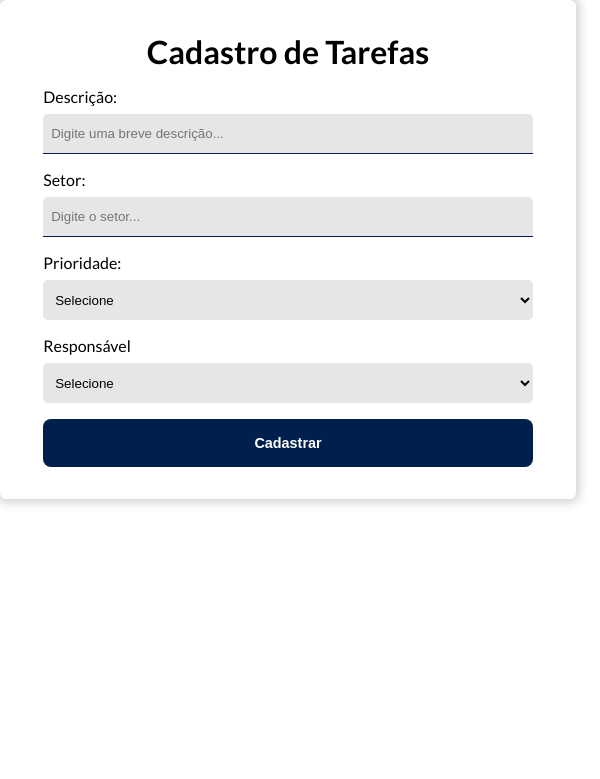
Scenario: Cadastro de tarefas › Exibe mensagem de erro quando o campo descrição estiver vazio
Click the button "Cadastrar" at (288, 443), box [43,419,533,467]
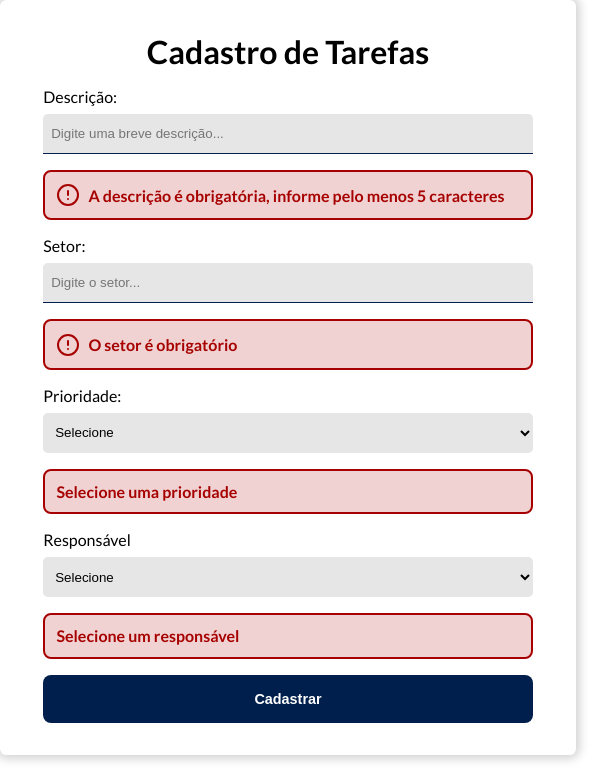
expect the text "A descrição é obrigatória, informe pelo menos 5 caracteres" is shown: met, box [43,170,533,220]
